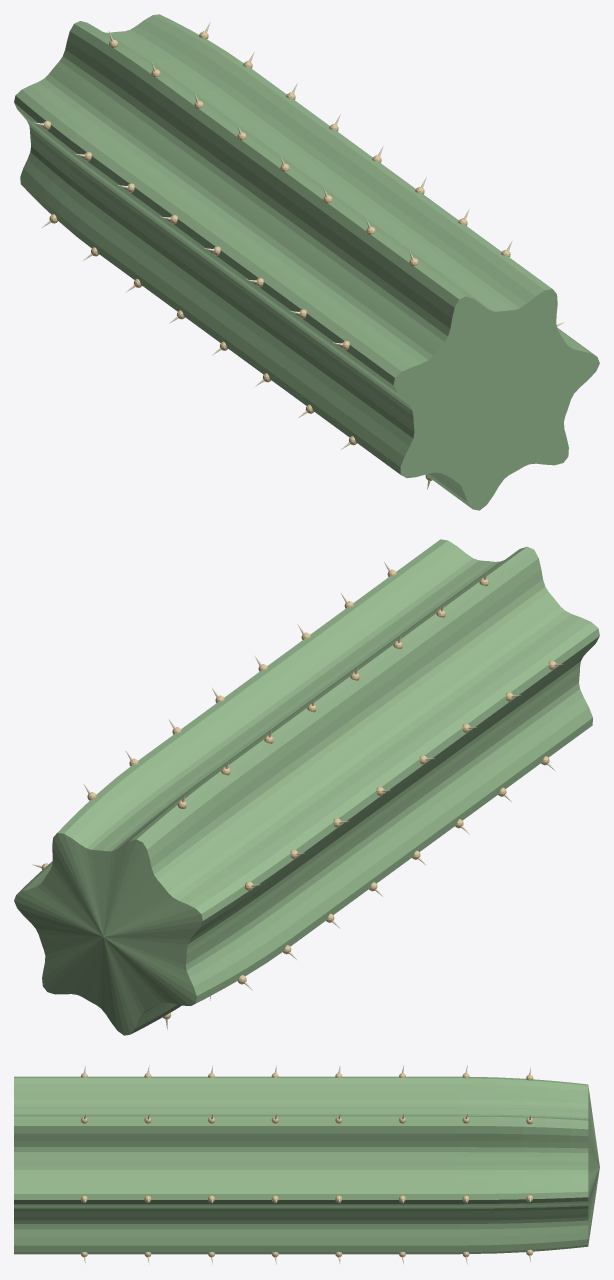
File: pachanoi-geometry-nodes-frame5.glb
3 renders of one model, top to bottom at view 1: azimuth 30°, elevation 25°; view 2: azimuth 150°, elevation 25°; view 3: azimuth 270°, elevation 25°, orthographic. The views are drawn at different scales.
Parts seen in each view (by area): view 1: WACHUMA_Pachanoi_GN_Baked; view 2: WACHUMA_Pachanoi_GN_Baked; view 3: WACHUMA_Pachanoi_GN_Baked.
Boxes of the visible parts, x1=… form: WACHUMA_Pachanoi_GN_Baked: x1=14, y1=14, x2=599, y2=510; WACHUMA_Pachanoi_GN_Baked: x1=14, y1=539, x2=599, y2=1035; WACHUMA_Pachanoi_GN_Baked: x1=14, y1=1065, x2=599, y2=1264.
Size of the model in its own units: 0.8869 by 0.8938 by 2.6.
